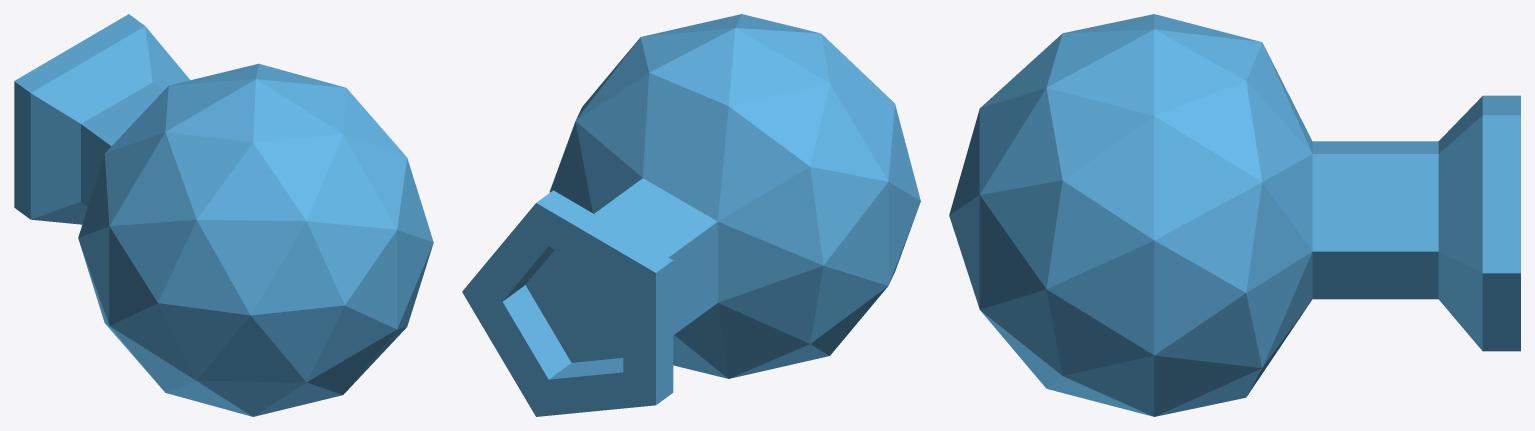
The model's file is honey_bottle2.fbx.
3 renders of one model, left to right at view 1: azimuth 30°, elevation 25°; view 2: azimuth 150°, elevation 25°; view 3: azimuth 270°, elevation 25°, orthographic. The views are drawn at different scales.
Visible parts, largest first — view 1: honeyBottle; view 2: honeyBottle; view 3: honeyBottle.
Part boxes in pixels (bbox=[...]): honeyBottle: bbox=[14, 14, 433, 416]; honeyBottle: bbox=[462, 14, 920, 416]; honeyBottle: bbox=[949, 14, 1520, 416].
Size of the model in its own units: 53.68 by 56.44 by 78.6.
